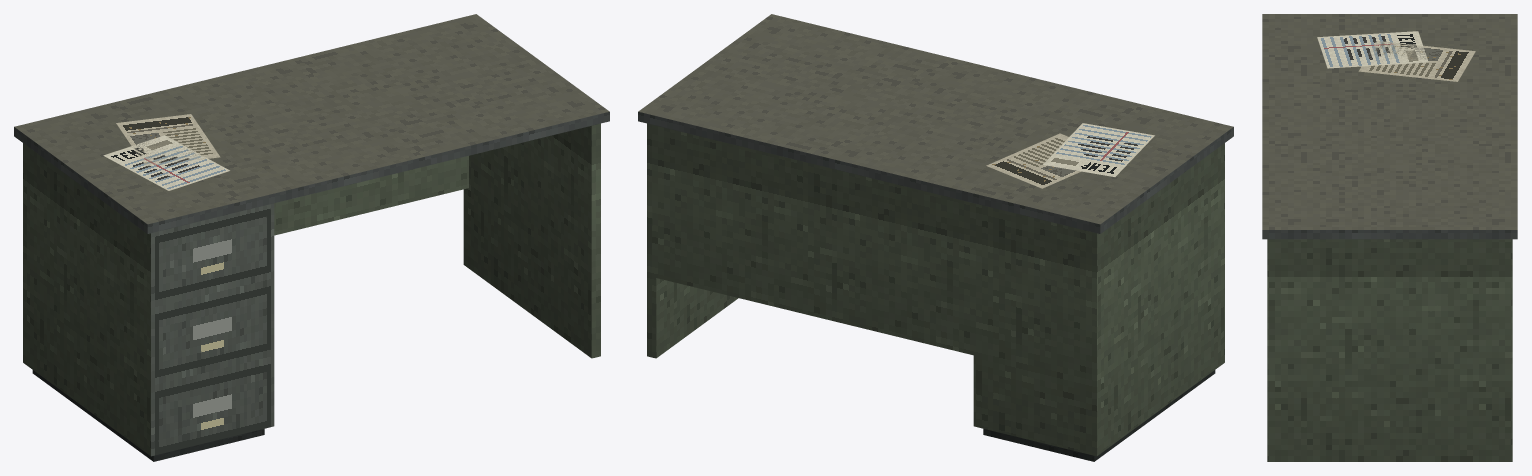
Rendered from manager_desk.glb.
3 renders of one model, left to right at view 1: azimuth 30°, elevation 25°; view 2: azimuth 150°, elevation 25°; view 3: azimuth 270°, elevation 25°, orthographic. The views are drawn at different scales.
Parts seen in each view (by area): view 1: ManagerDesk; view 2: ManagerDesk; view 3: ManagerDesk.
Part boxes in pixels (x1,y1,x2,y2): ManagerDesk: [14, 14, 609, 461]; ManagerDesk: [638, 14, 1233, 461]; ManagerDesk: [1262, 14, 1517, 461].
Bounding box in the file's own units: 1.5 × 0.7605 × 0.75.
Materials: 7 (7 with a texture image).
